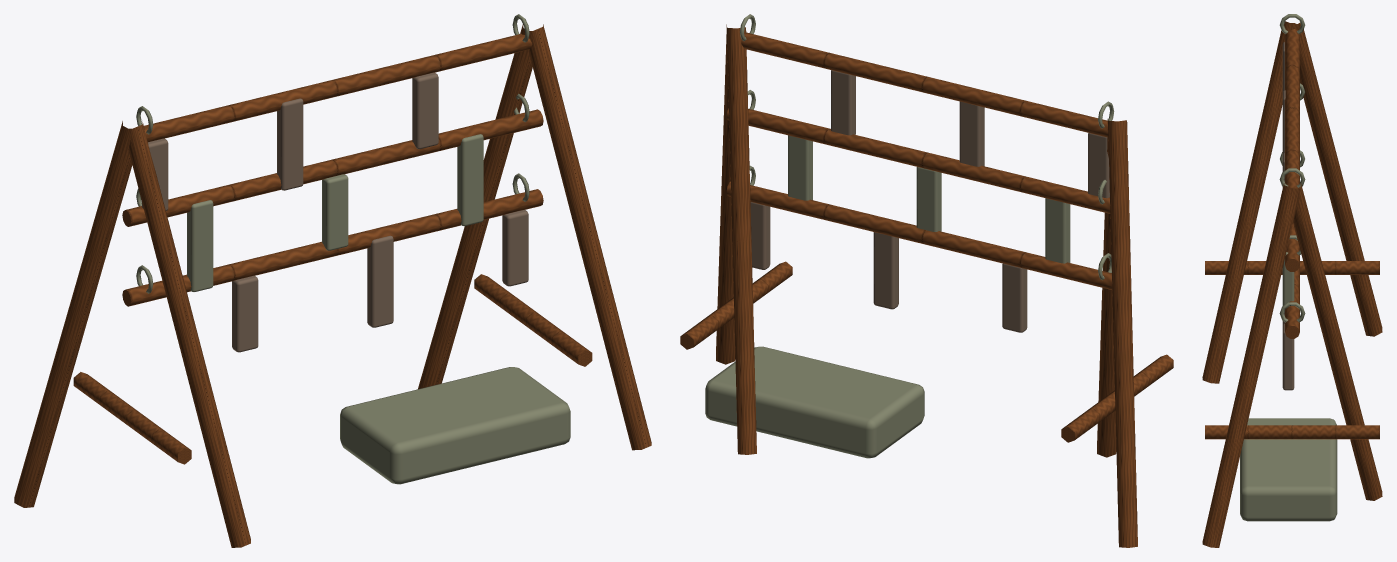
The model's file is fps-survival-forest-outpost-drying-rack-8e0dc362__32635.glb.
3 renders of one model, left to right at view 1: azimuth 30°, elevation 25°; view 2: azimuth 150°, elevation 25°; view 3: azimuth 270°, elevation 25°, orthographic. The views are drawn at different scales.
Parts seen in each view (by area): view 1: drying-rack; view 2: drying-rack; view 3: drying-rack.
Boxes of the visible parts, box(x1,y1,x2,y2) form: drying-rack: box(14, 14, 651, 547); drying-rack: box(680, 14, 1173, 547); drying-rack: box(1202, 14, 1382, 547).
Size of the model in its own units: 2.7 by 1.98 by 0.9262.
Materials: 3 (1 with a texture image).
